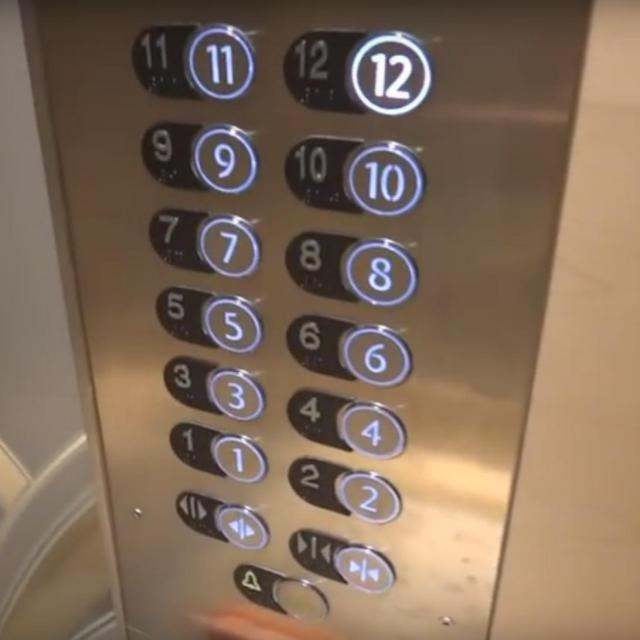1: (166, 415, 221, 480), (209, 432, 267, 482)
10: (340, 139, 424, 217), (289, 134, 335, 210)
11: (179, 22, 254, 99), (129, 22, 195, 99)
12: (348, 30, 432, 116), (280, 29, 354, 117)
2: (284, 451, 348, 517), (334, 468, 400, 524)
3: (162, 352, 217, 415), (203, 367, 264, 420)
4: (282, 384, 348, 451), (335, 401, 407, 458)
5: (151, 281, 209, 352), (199, 294, 263, 353)
6: (337, 324, 412, 387), (284, 309, 348, 381)
7: (195, 212, 262, 279), (149, 207, 208, 279)
8: (340, 236, 417, 304), (283, 227, 348, 304)
9: (188, 120, 259, 195), (136, 119, 202, 193)
alarm: (230, 558, 329, 628)
close: (284, 520, 344, 586), (335, 542, 396, 594)
open: (174, 485, 222, 546), (212, 502, 270, 550)
